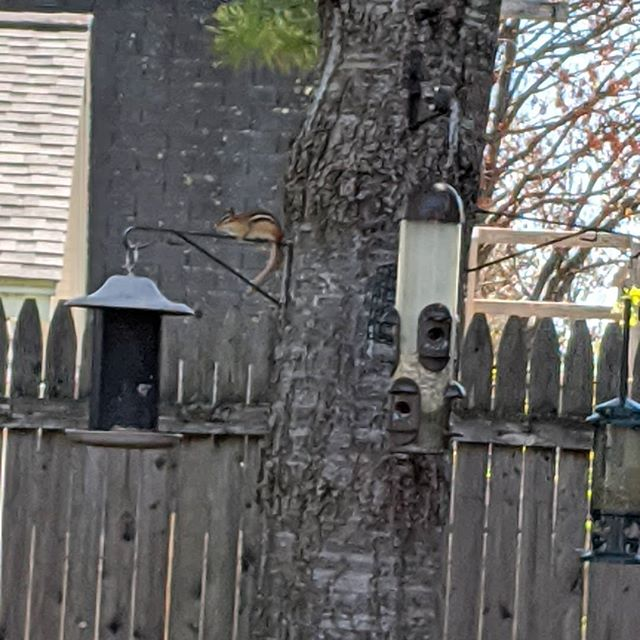animal: (207, 200, 293, 289)
tree: (184, 1, 531, 621)
